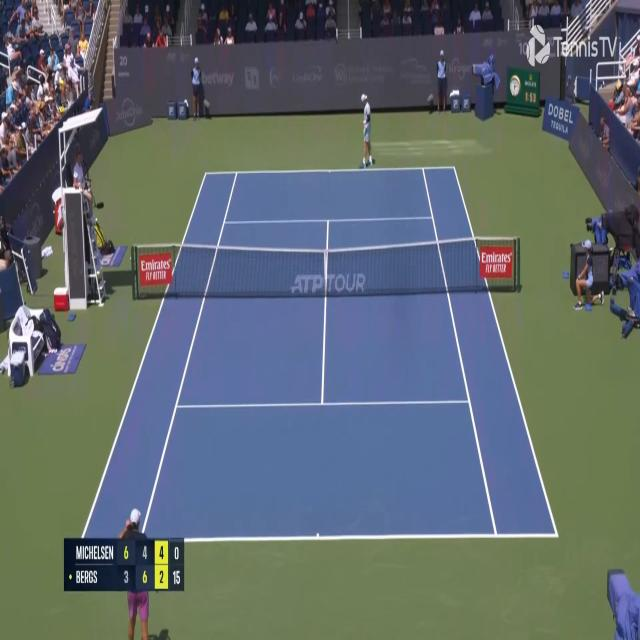tennis-player: (122, 504, 150, 640), (360, 90, 374, 171)
